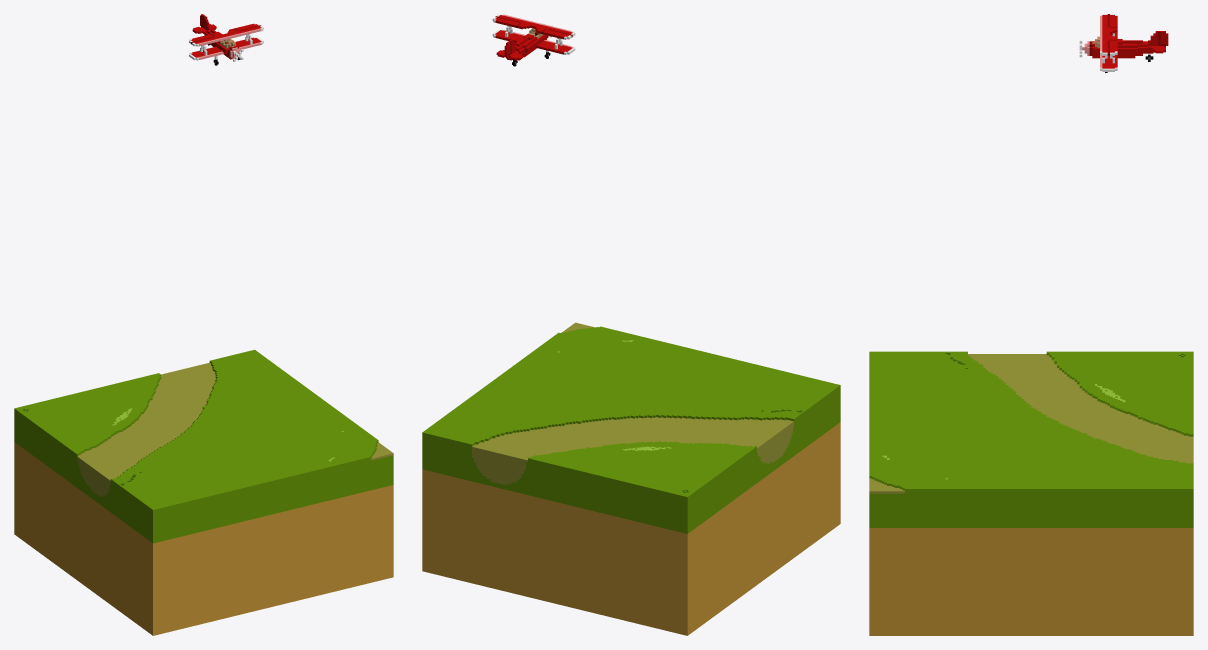
3 views of the same model, side by side, from view 1: azimuth 30°, elevation 25°; view 2: azimuth 150°, elevation 25°; view 3: azimuth 270°, elevation 25° (orthographic). The views are drawn at different scales.
Parts seen in each view (by area): view 1: 9G; view 2: 9G; view 3: 9G.
Boxes of the visible parts, box(x1,y1,x2,y2) form: 9G: box(14, 14, 393, 635); 9G: box(422, 14, 840, 635); 9G: box(869, 14, 1193, 635).
Size of the model in its own units: 12.8 by 24.7 by 12.8.
1 material, 1 textured.
